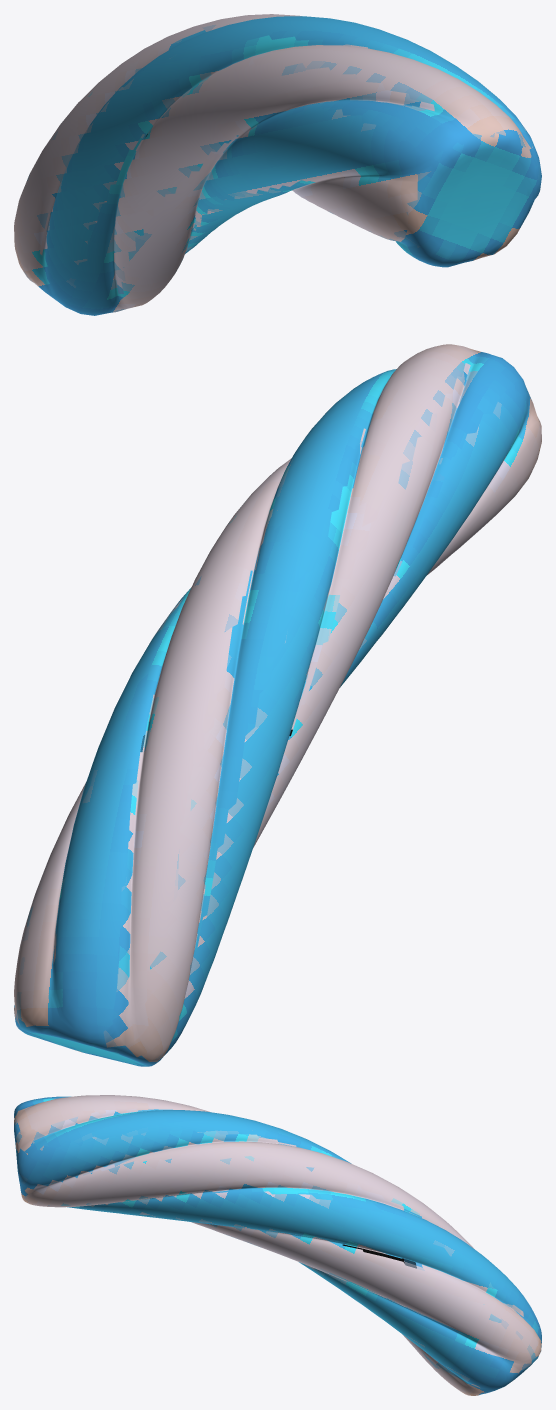
File: twister_011.obj
3 renders of one model, top to bottom at view 1: azimuth 30°, elevation 25°; view 2: azimuth 150°, elevation 25°; view 3: azimuth 270°, elevation 25°, orthographic. The views are drawn at different scales.
Parts seen in each view (by area): view 1: twister.011; view 2: twister.011; view 3: twister.011.
Boxes of the visible parts, x1,y1,x2,y2 form: twister.011: (14,14,541,315); twister.011: (14,344,541,1066); twister.011: (14,1095,541,1395).
Bounding box in the file's own units: 0.2159 × 0.579 × 0.9578.
Materials: 1 (1 with a texture image).
